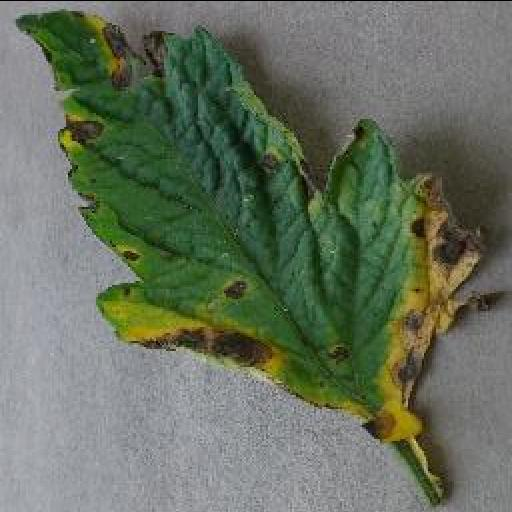disease_tomato: (14, 6, 486, 440)
